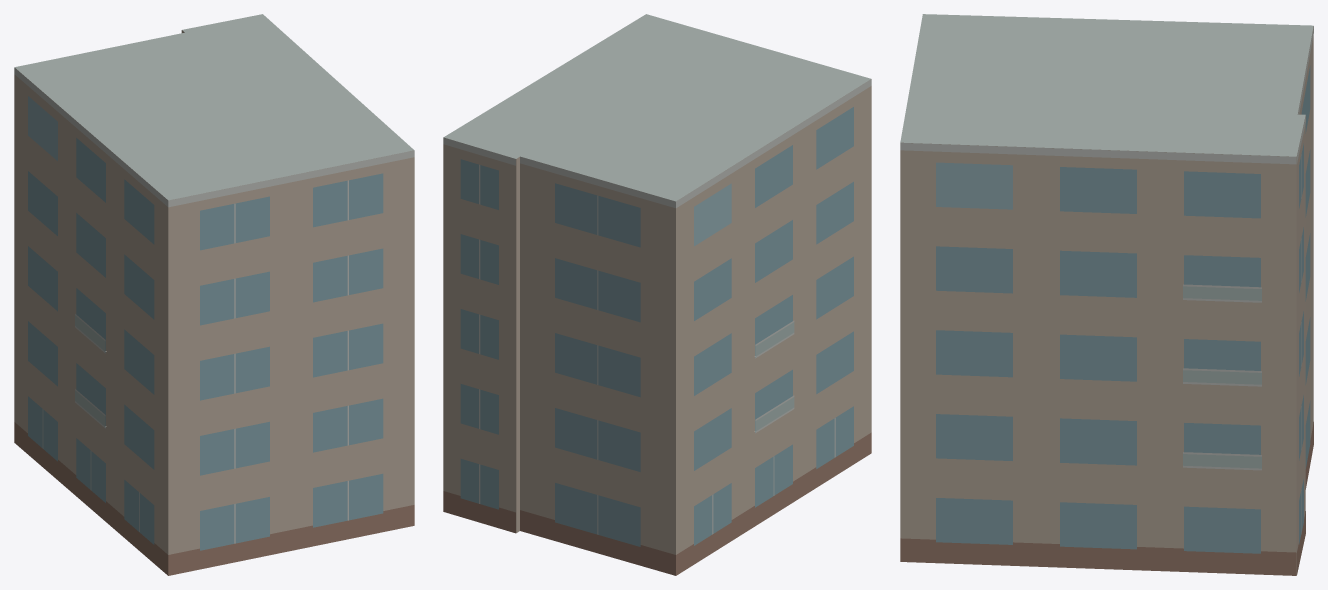
The model's file is survey-upis-32827244.glb.
The picture shows the model from 3 angles, left to right: view 1: azimuth 30°, elevation 25°; view 2: azimuth 150°, elevation 25°; view 3: azimuth 270°, elevation 25°; orthographic projection. The views are drawn at different scales.
Visible parts, largest first — view 1: survey-upis-32827244.tmp; view 2: survey-upis-32827244.tmp; view 3: survey-upis-32827244.tmp.
Part boxes in pixels (x1=…): survey-upis-32827244.tmp: x1=14, y1=14, x2=414, y2=575; survey-upis-32827244.tmp: x1=443, y1=14, x2=871, y2=575; survey-upis-32827244.tmp: x1=900, y1=14, x2=1313, y2=575.
Bounding box in the file's own units: 9.72 × 13.3 × 11.9.
